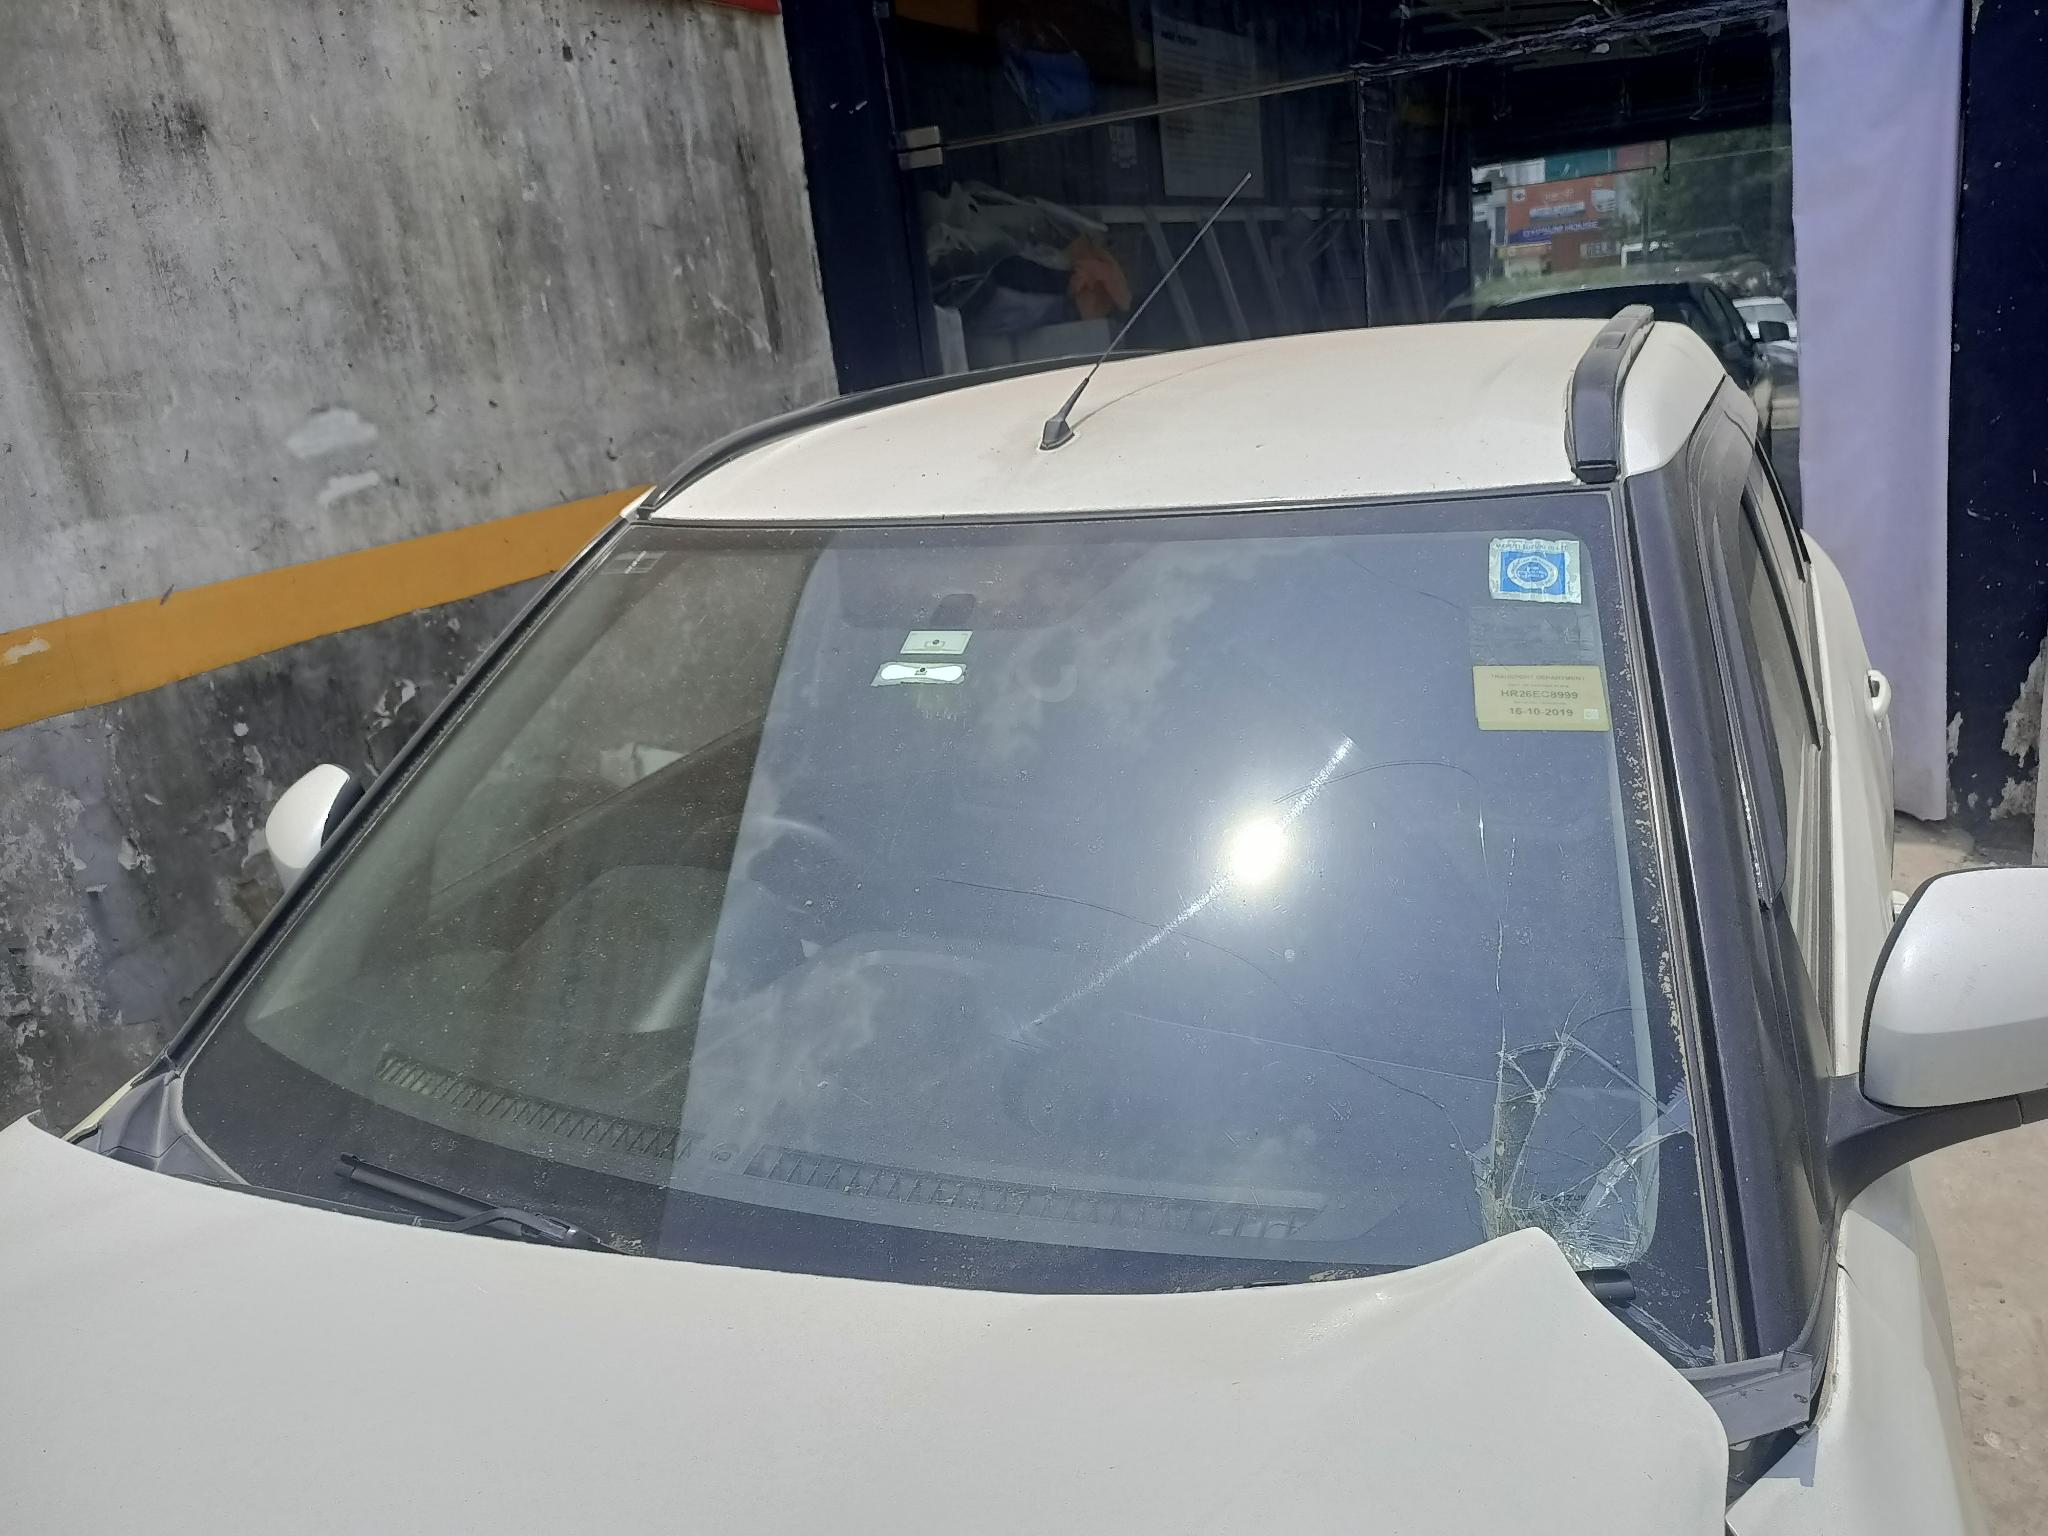FastTag: (872, 657, 977, 700)
not a FastTag: (1464, 637, 1613, 749), (1450, 529, 1595, 621), (903, 624, 980, 655)
